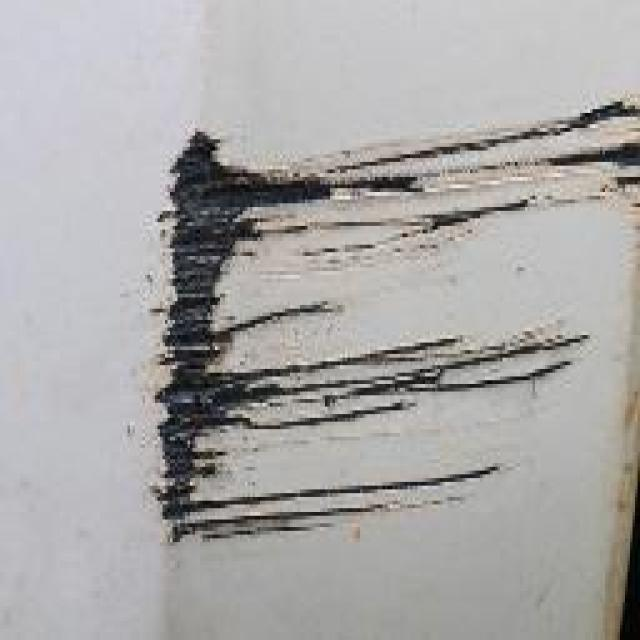Fender: (90, 23, 640, 587)
